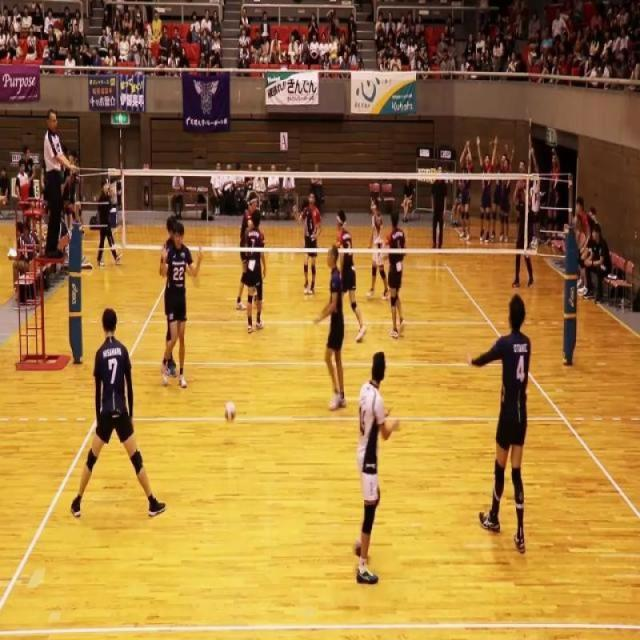volleyball: (224, 398, 236, 423)
